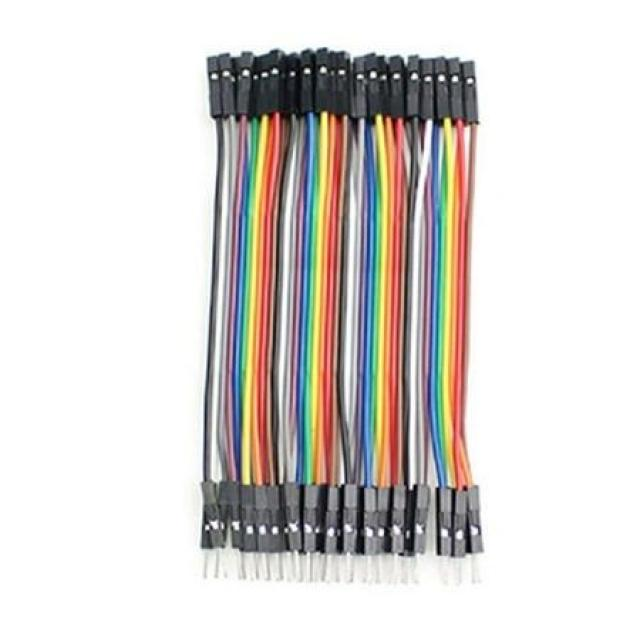Jumper Wires: (184, 40, 498, 595)
